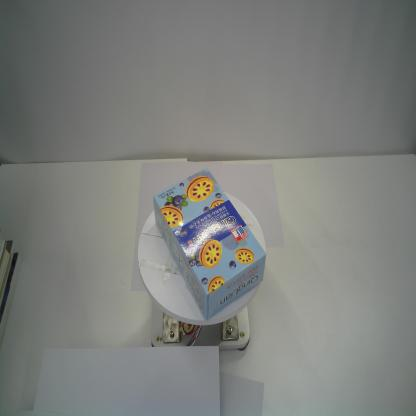Dessert: (152, 167, 267, 321)
